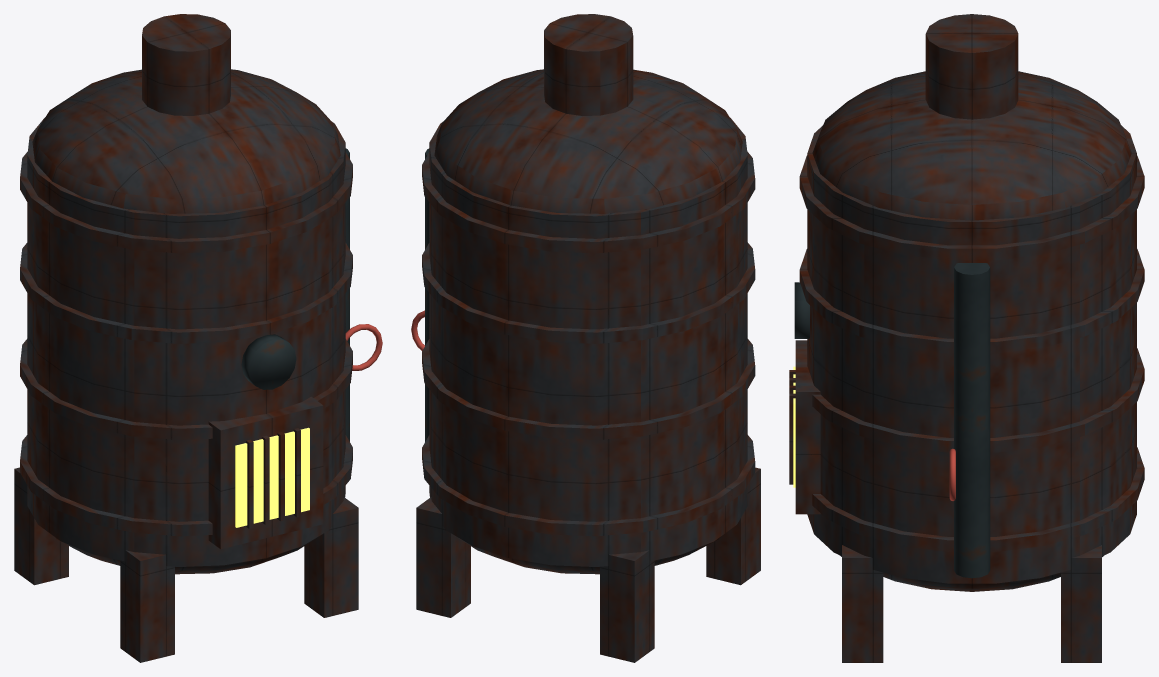
File: Prop_IndustrialBoiler.fbx
3 views of the same model, side by side, from view 1: azimuth 30°, elevation 25°; view 2: azimuth 150°, elevation 25°; view 3: azimuth 270°, elevation 25° (orthographic). The views are drawn at different scales.
Parts seen in each view (by area): view 1: Prop_IndustrialBoiler; view 2: Prop_IndustrialBoiler; view 3: Prop_IndustrialBoiler.
Boxes of the visible parts, x1,y1,x2,y2 form: Prop_IndustrialBoiler: (14,14,382,662); Prop_IndustrialBoiler: (411,14,760,662); Prop_IndustrialBoiler: (789,14,1144,662).
Size of the model in its own units: 3.05 by 4.92 by 2.76.
